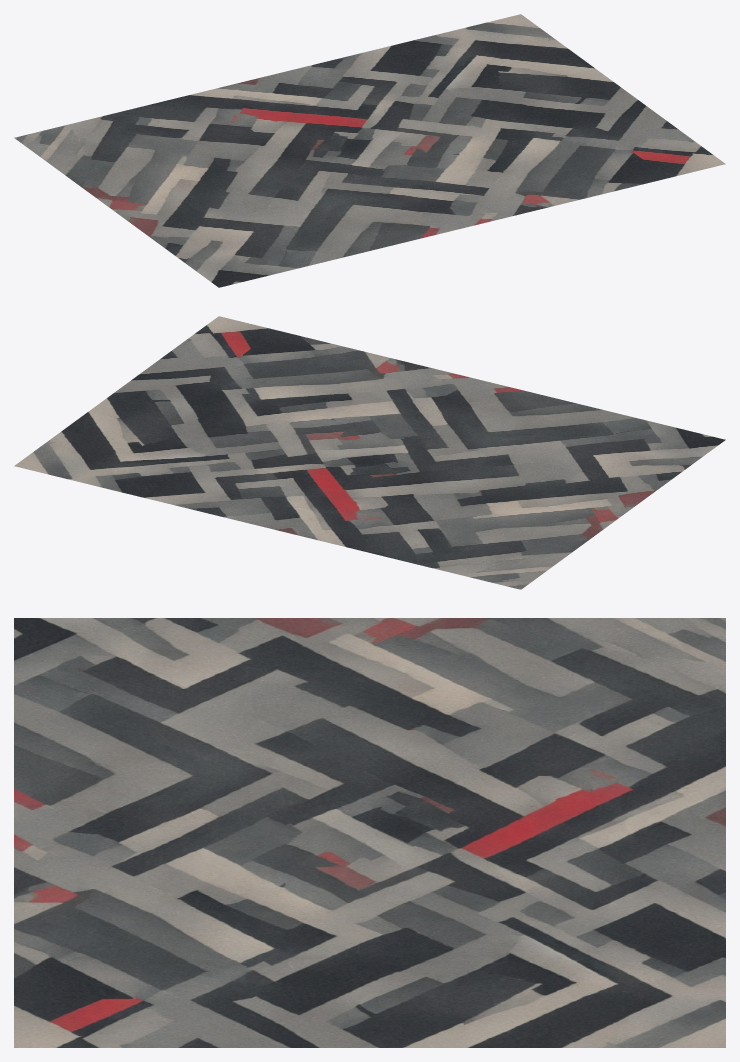
Rendered from carpet_designer2.glb.
3 views of the same model, one above another, from view 1: azimuth 30°, elevation 25°; view 2: azimuth 150°, elevation 25°; view 3: azimuth 270°, elevation 25° (orthographic). The views are drawn at different scales.
Parts seen in each view (by area): view 1: Plane; view 2: Plane; view 3: Plane.
Boxes of the visible parts, x1,y1,x2,y2 form: Plane: (14, 14, 725, 287); Plane: (14, 316, 725, 589); Plane: (14, 618, 725, 1047).
Bounding box in the file's own units: 2 × 0 × 1.4.
1 material, 1 textured.
